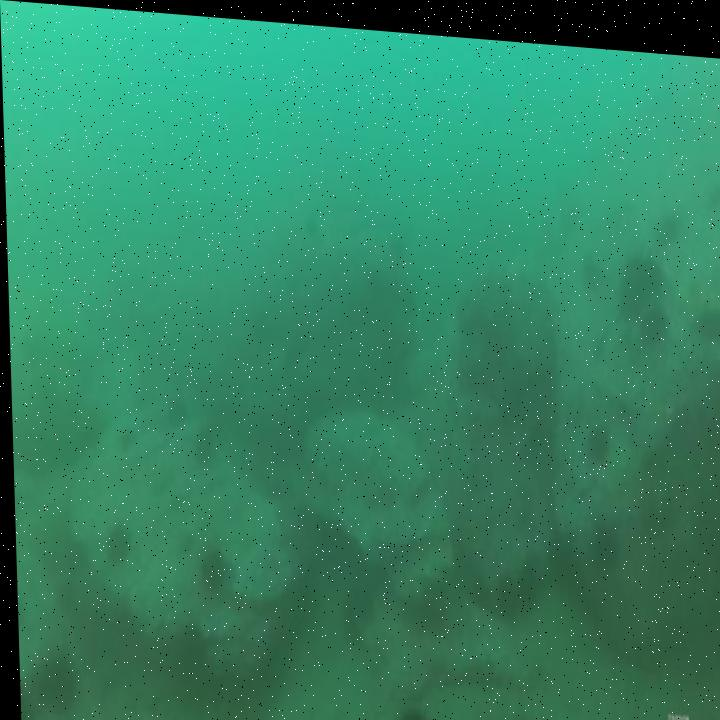echinus: (614, 243, 662, 298), (36, 654, 68, 711), (584, 410, 607, 453), (642, 293, 667, 330), (196, 547, 221, 584), (592, 512, 615, 552), (103, 527, 125, 560), (192, 419, 212, 452), (165, 392, 186, 422), (394, 701, 426, 720), (581, 248, 599, 273), (658, 198, 672, 229)
